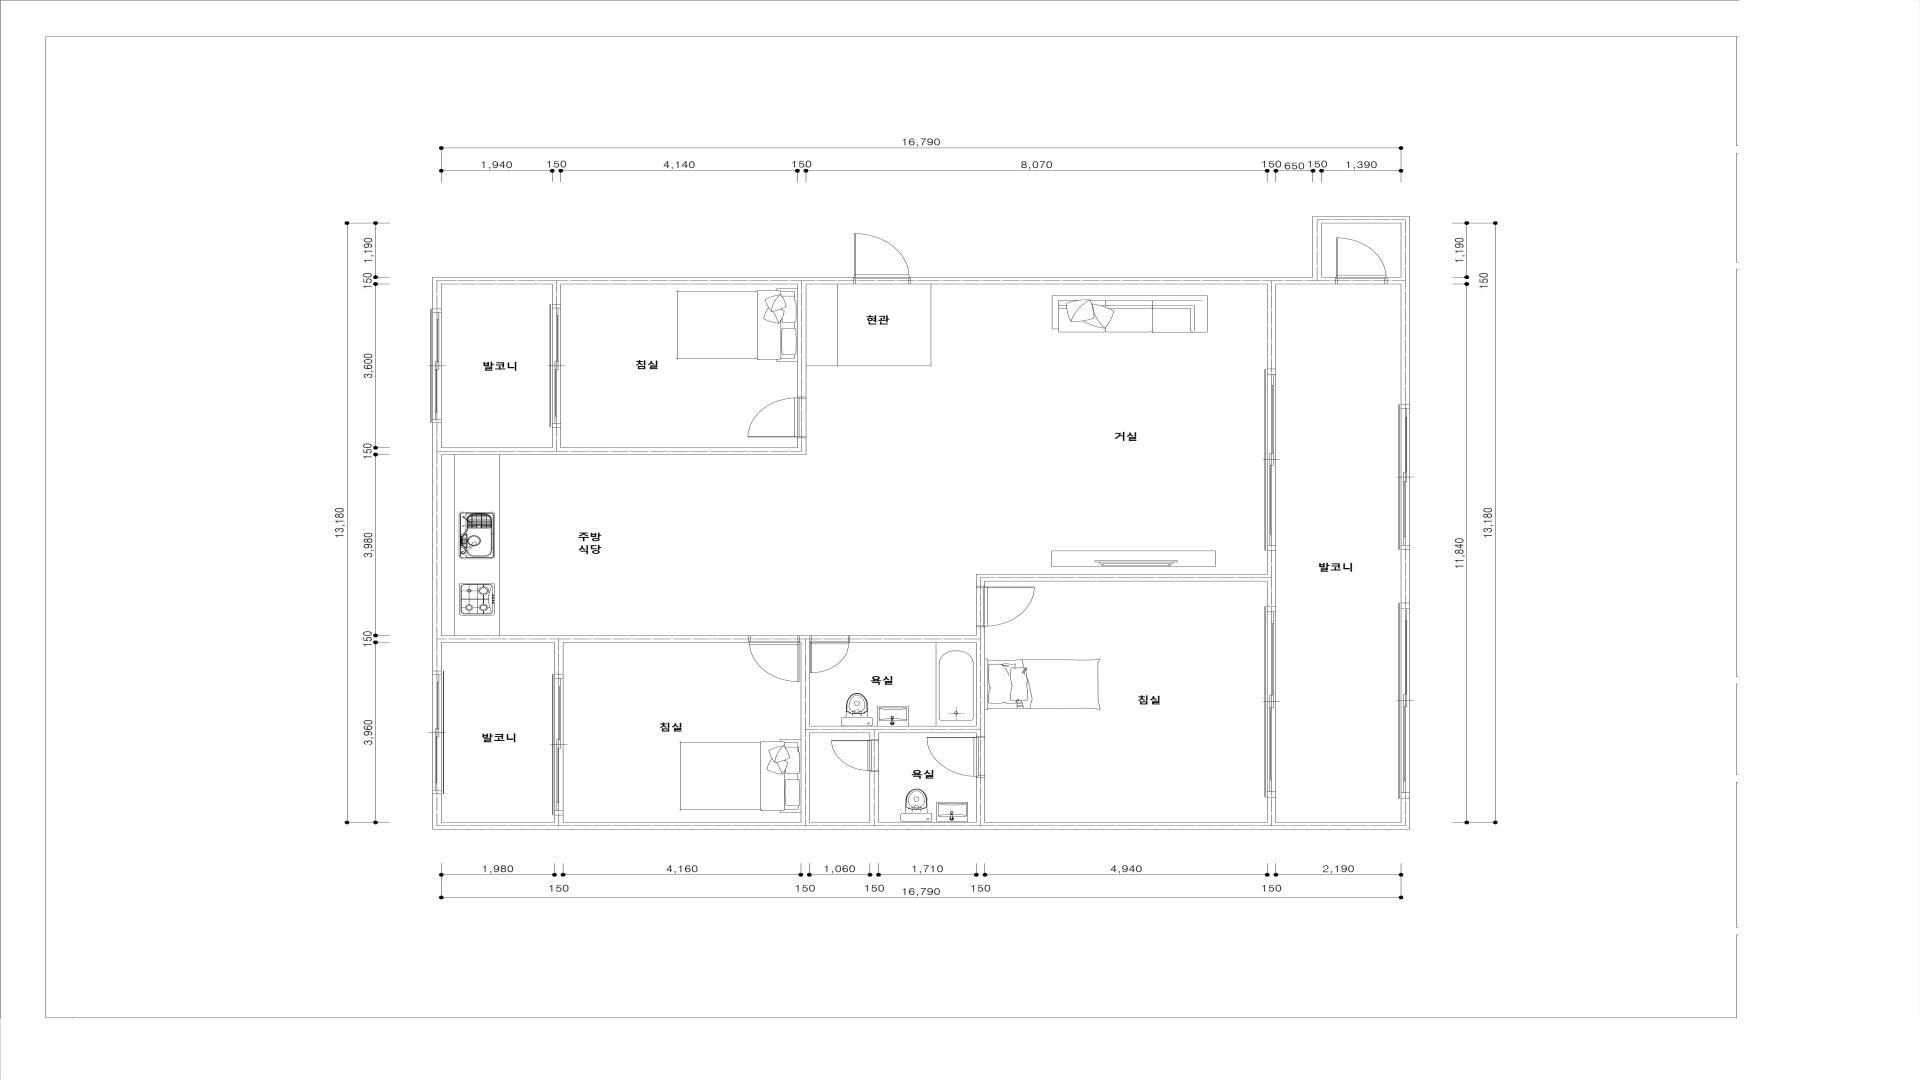door: (853, 232, 910, 284), (744, 397, 806, 438), (748, 636, 800, 683), (1335, 237, 1387, 285), (926, 736, 985, 777), (976, 585, 1035, 626), (1267, 607, 1276, 796), (1267, 369, 1276, 550), (831, 740, 880, 771), (810, 636, 849, 674), (554, 674, 563, 815), (553, 305, 560, 427)
wall: (910, 277, 1336, 369), (433, 794, 976, 829), (976, 550, 1276, 607), (849, 626, 985, 737), (976, 796, 1410, 829), (433, 277, 853, 309), (442, 636, 748, 674), (442, 427, 806, 455), (1312, 216, 1410, 285), (810, 725, 976, 740), (433, 423, 442, 671), (799, 636, 810, 823), (1400, 285, 1410, 405), (798, 285, 806, 397), (869, 771, 880, 823), (1400, 550, 1410, 603), (976, 777, 985, 823)
window: (1400, 603, 1410, 799), (1400, 405, 1410, 550), (433, 671, 442, 794), (433, 309, 442, 423)
